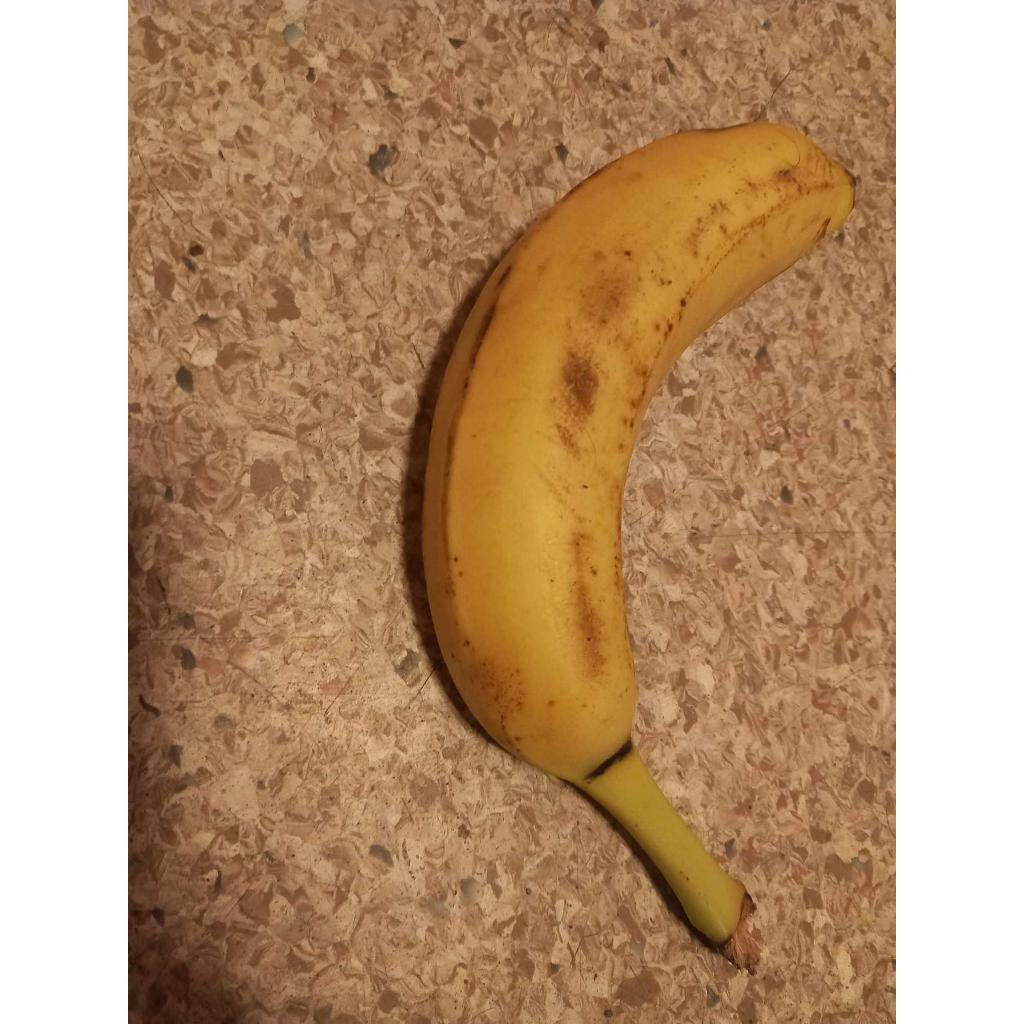banana: (424, 124, 854, 944)
